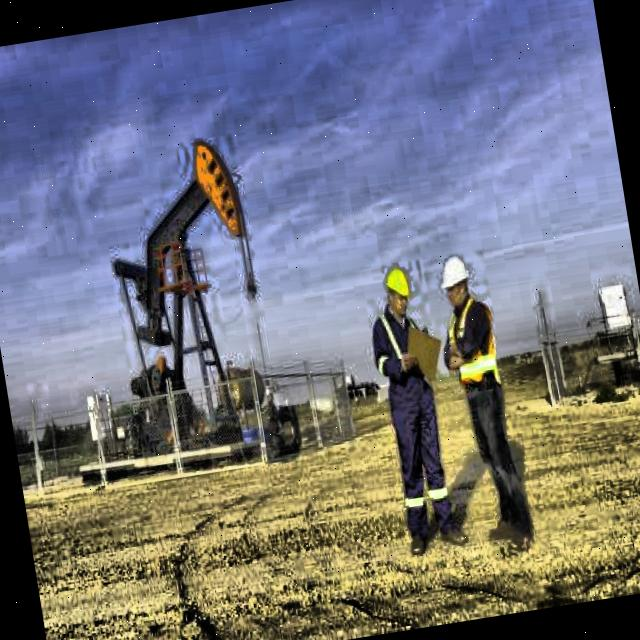helmet: (378, 256, 419, 322), (434, 253, 476, 313)
